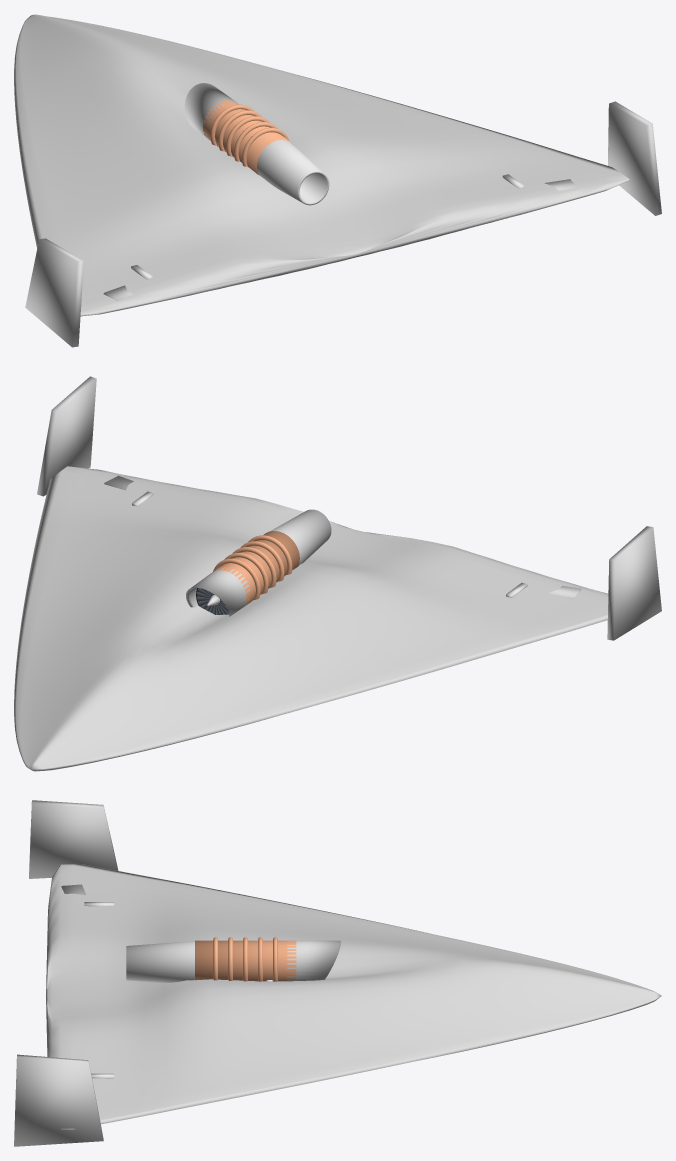
Rendered from Apex-6.fbx.
3 views of the same model, one above another, from view 1: azimuth 30°, elevation 25°; view 2: azimuth 150°, elevation 25°; view 3: azimuth 270°, elevation 25° (orthographic). The views are drawn at different scales.
Visible parts, largest first — view 1: Apex_Kamikaze_Airframe, Main_Winglet_L, Main_Winglet_R, True_Tempered_Nozzle, Engine_Casing_Smooth, True_Streamlined_Intake; view 2: Apex_Kamikaze_Airframe, Main_Winglet_L, Main_Winglet_R, Engine_Casing_Smooth, True_Tempered_Nozzle, True_Streamlined_Intake; view 3: Apex_Kamikaze_Airframe, Main_Winglet_R, Main_Winglet_L, Engine_Casing_Smooth, True_Tempered_Nozzle, True_Streamlined_Intake.
Boxes of the visible parts, left/top/right/bottom form: Apex_Kamikaze_Airframe: left=14, top=14, right=629, bottom=316; Main_Winglet_L: left=25, top=238, right=83, bottom=347; Main_Winglet_R: left=608, top=101, right=661, bottom=215; True_Tempered_Nozzle: left=257, top=140, right=329, bottom=205; Engine_Casing_Smooth: left=203, top=100, right=293, bottom=174; True_Streamlined_Intake: left=184, top=83, right=239, bottom=139; Apex_Kamikaze_Airframe: left=14, top=466, right=608, bottom=771; Main_Winglet_L: left=607, top=526, right=661, bottom=640; Main_Winglet_R: left=37, top=376, right=96, bottom=496; Engine_Casing_Smooth: left=212, top=531, right=299, bottom=606; True_Tempered_Nozzle: left=270, top=509, right=331, bottom=565; True_Streamlined_Intake: left=186, top=567, right=250, bottom=616; Apex_Kamikaze_Airframe: left=46, top=864, right=661, bottom=1129; Main_Winglet_R: left=14, top=1054, right=103, bottom=1146; Main_Winglet_L: left=29, top=800, right=118, bottom=878; Engine_Casing_Smooth: left=195, top=940, right=296, bottom=981; True_Tempered_Nozzle: left=126, top=941, right=194, bottom=983; True_Streamlined_Intake: left=287, top=940, right=340, bottom=980.
Bounding box in the file's own units: 2.13 × 0.3424 × 2.17.
